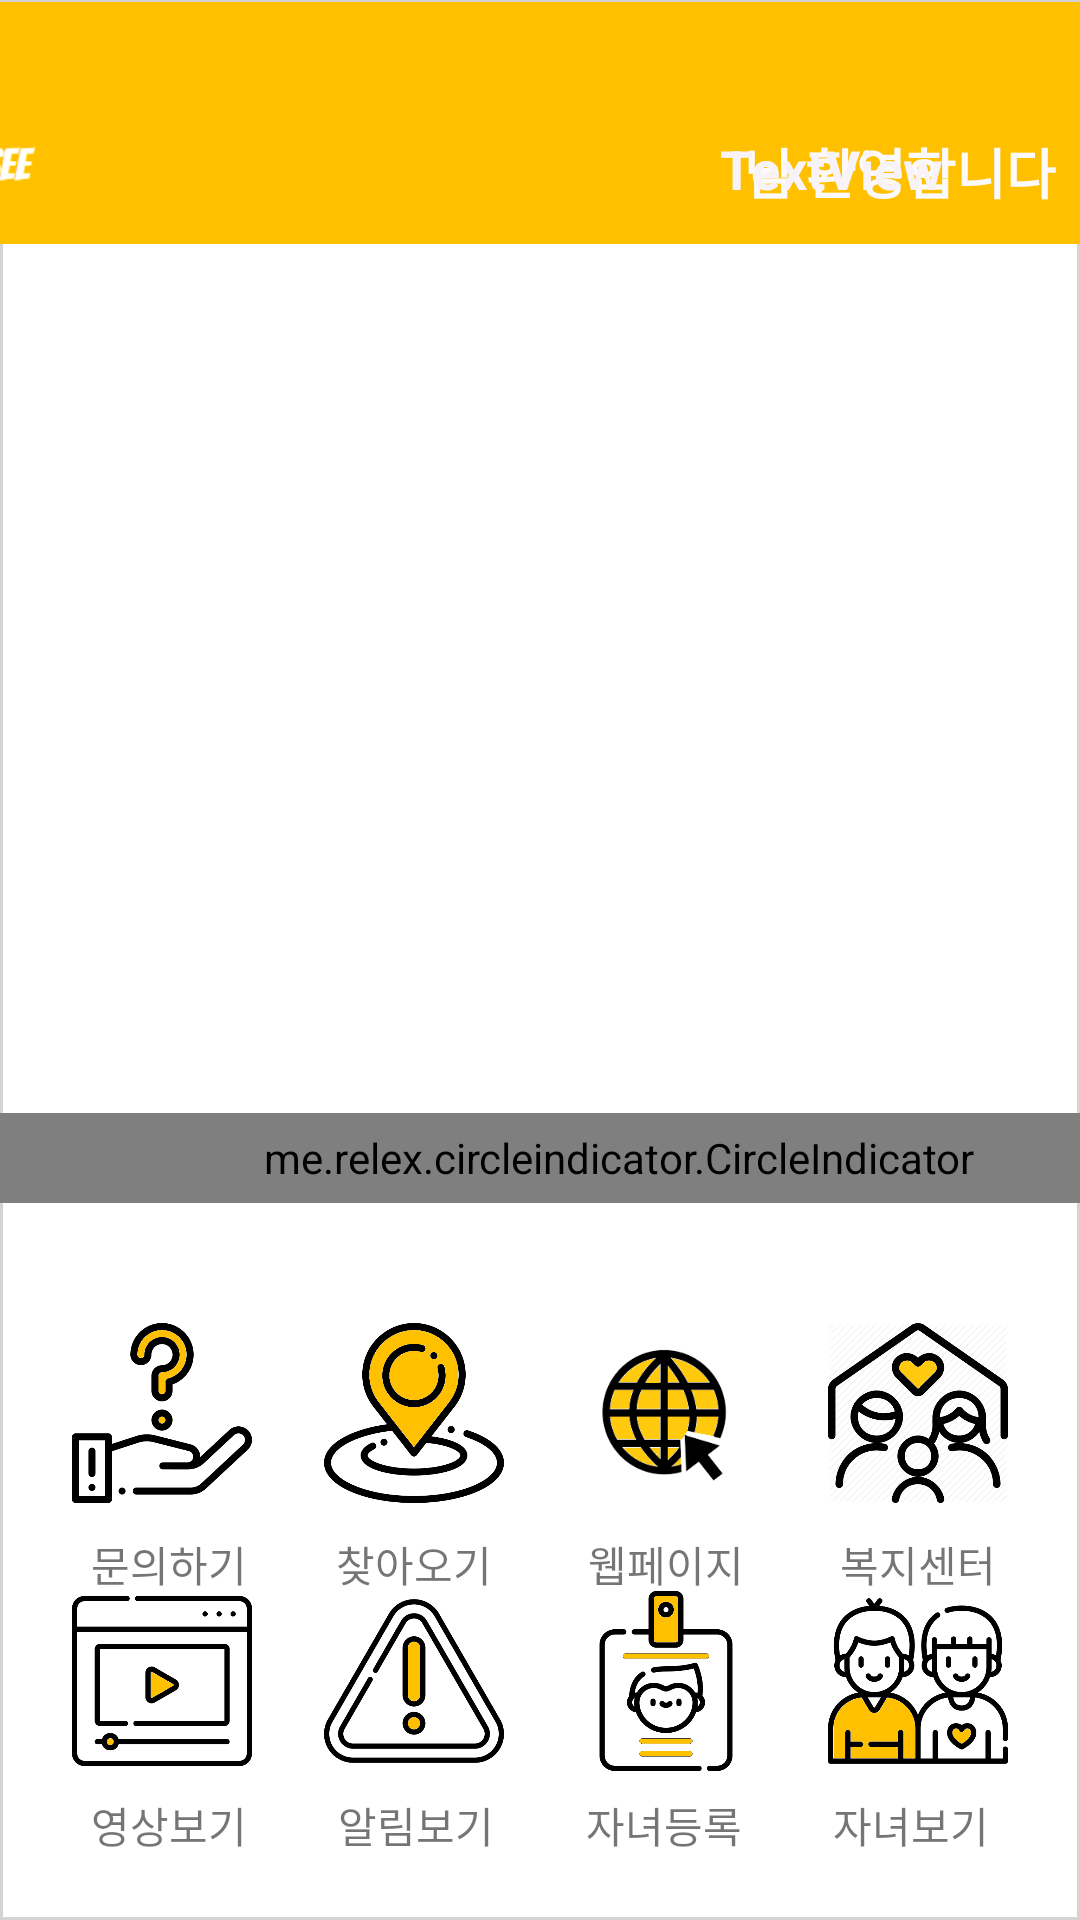

Locate icon controls on the screen. Image size 1080px×1920px, boxes as region(x1, y1, x2, y2).
map: region(324, 1323, 504, 1503)
web: region(602, 1350, 726, 1481)
